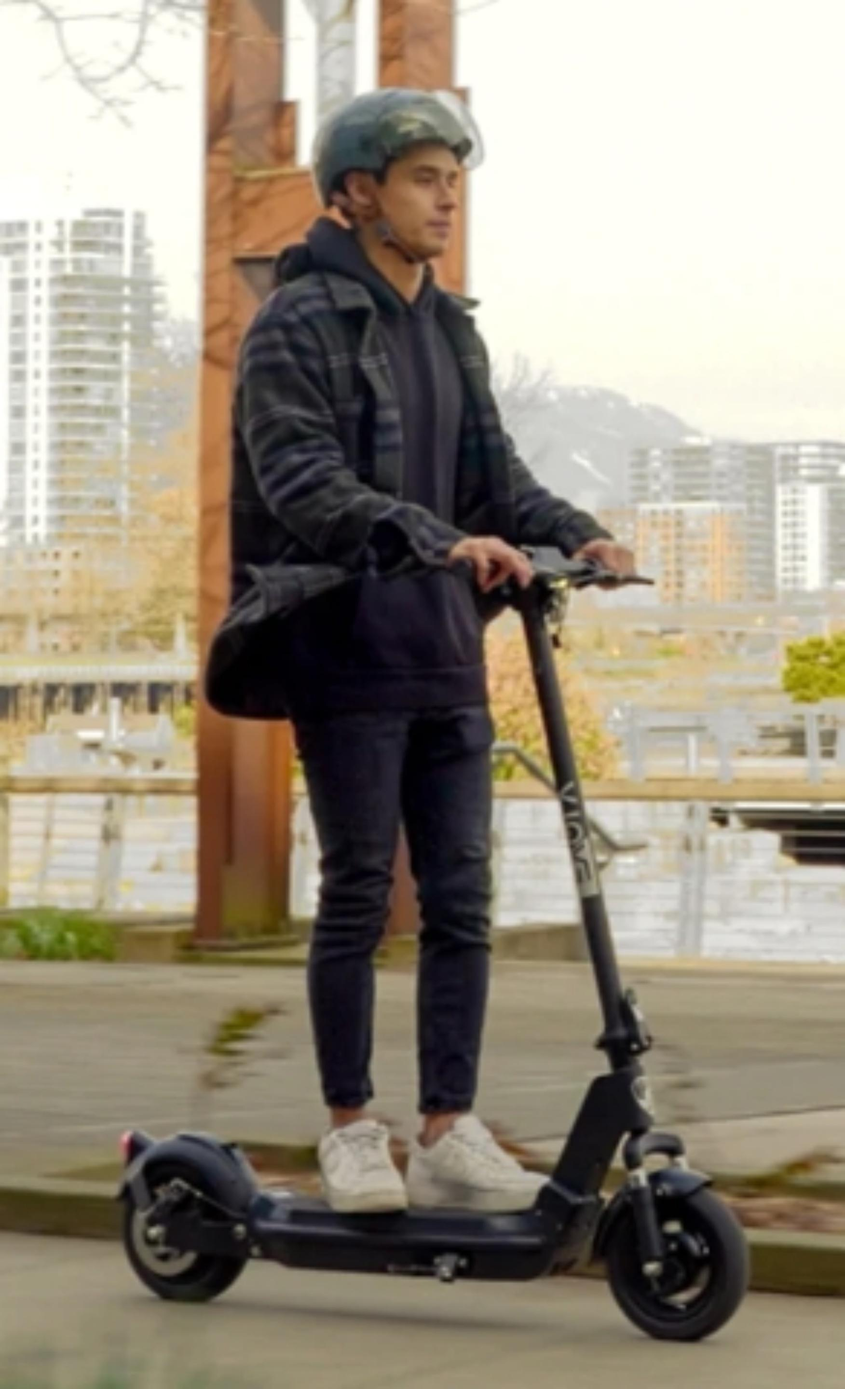helmet: (277, 75, 499, 284)
human: (198, 76, 632, 1210)
kickboard: (132, 1160, 748, 1345)
